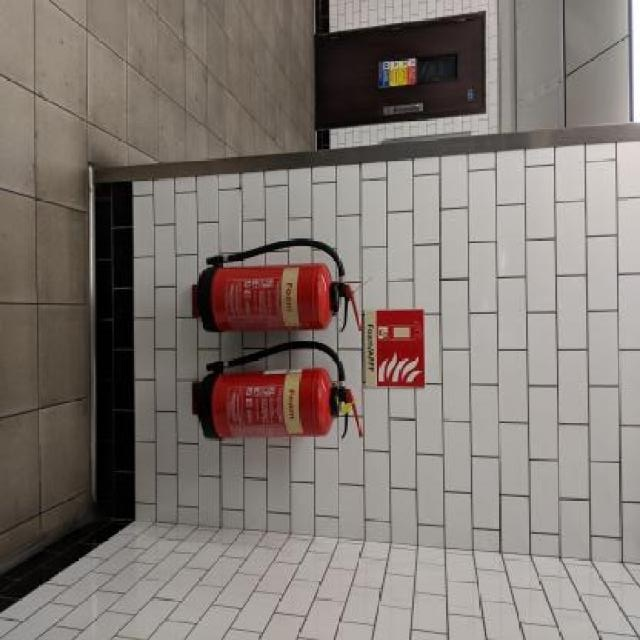fire extinguisher: (193, 341, 362, 456), (193, 235, 364, 339)
